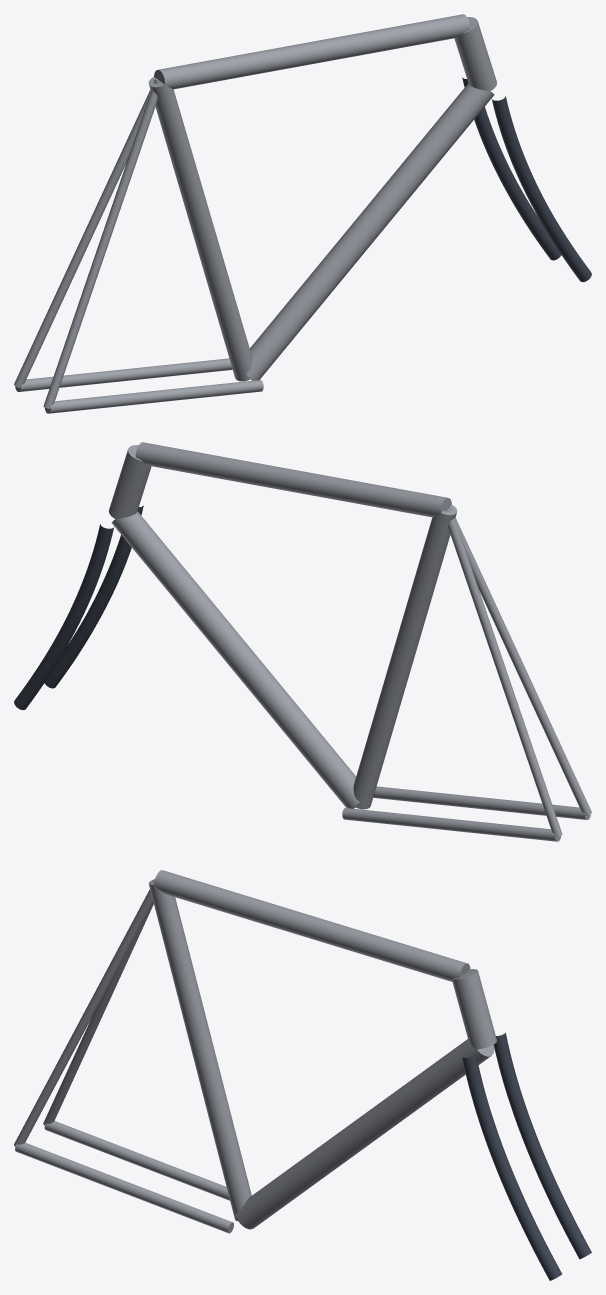
Rendered from cinelli-vigorelli-rainbow-s.glb.
The picture shows the model from 3 angles, top to bottom: view 1: azimuth 30°, elevation 25°; view 2: azimuth 150°, elevation 25°; view 3: azimuth 330°, elevation 25°; orthographic projection.
Parts seen in each view (by area): view 1: paint_down, paint_top, paint_seat, paint_seatstay_0.045, fork_0.045, paint_seatstay_-0.045, paint_chainstay_0.045, paint_chainstay_-0.045, fork_-0.045, paint_head; view 2: paint_down, paint_top, paint_seat, paint_seatstay_-0.045, fork_-0.045, paint_seatstay_0.045, paint_chainstay_-0.045, paint_chainstay_0.045, fork_0.045, paint_head; view 3: paint_down, paint_seat, paint_top, fork_0.045, fork_-0.045, paint_chainstay_0.045, paint_seatstay_0.045, paint_chainstay_-0.045, paint_head, paint_seatstay_-0.045.
Boxes of the visible parts, x1=… form: paint_down: x1=246, y1=83, x2=494, y2=380; paint_top: x1=154, y1=14, x2=470, y2=89; paint_seat: x1=148, y1=77, x2=252, y2=381; paint_seatstay_0.045: x1=43, y1=80, x2=161, y2=408; fork_0.045: x1=492, y1=96, x2=591, y2=281; paint_seatstay_-0.045: x1=14, y1=78, x2=158, y2=387; paint_chainstay_0.045: x1=44, y1=380, x2=263, y2=413; paint_chainstay_-0.045: x1=15, y1=358, x2=232, y2=391; fork_-0.045: x1=462, y1=77, x2=561, y2=260; paint_head: x1=454, y1=17, x2=496, y2=90; paint_down: x1=111, y1=511, x2=359, y2=808; paint_top: x1=135, y1=442, x2=451, y2=517; paint_seat: x1=353, y1=505, x2=457, y2=809; paint_seatstay_-0.045: x1=444, y1=508, x2=562, y2=836; fork_-0.045: x1=14, y1=524, x2=113, y2=709; paint_seatstay_0.045: x1=447, y1=506, x2=591, y2=815; paint_chainstay_-0.045: x1=342, y1=808, x2=561, y2=841; paint_chainstay_0.045: x1=373, y1=786, x2=590, y2=819; fork_0.045: x1=44, y1=505, x2=143, y2=688; paint_head: x1=109, y1=445, x2=151, y2=518; paint_down: x1=235, y1=1039, x2=494, y2=1229; paint_seat: x1=148, y1=879, x2=251, y2=1220; paint_top: x1=154, y1=870, x2=470, y2=981; fork_0.045: x1=462, y1=1054, x2=561, y2=1280; fork_-0.045: x1=493, y1=1032, x2=591, y2=1259; paint_chainstay_0.045: x1=15, y1=1142, x2=233, y2=1233; paint_seatstay_0.045: x1=14, y1=880, x2=154, y2=1146; paint_chainstay_-0.045: x1=44, y1=1121, x2=229, y2=1200; paint_head: x1=452, y1=969, x2=496, y2=1049; paint_seatstay_-0.045: x1=43, y1=902, x2=153, y2=1125.
Size of the model in its own units: 0.9595 by 0.5611 by 0.112.
